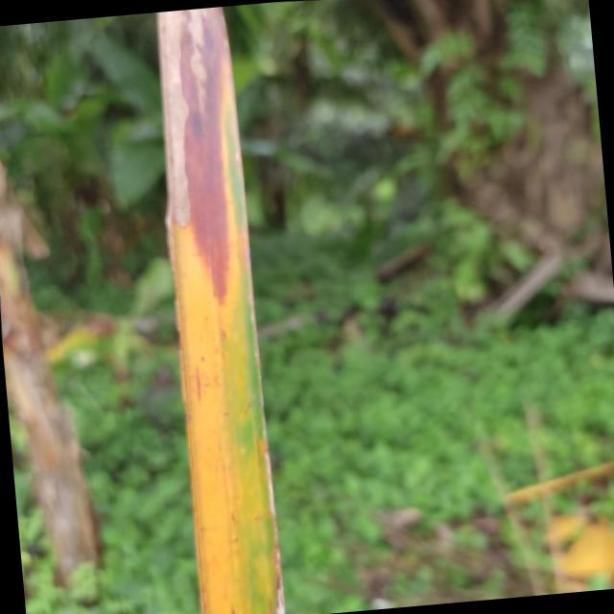Megnesium: (158, 6, 285, 614)
